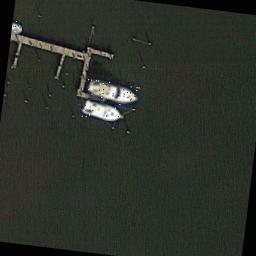boat: (86, 77, 140, 105), (79, 98, 125, 122), (10, 20, 22, 34)
